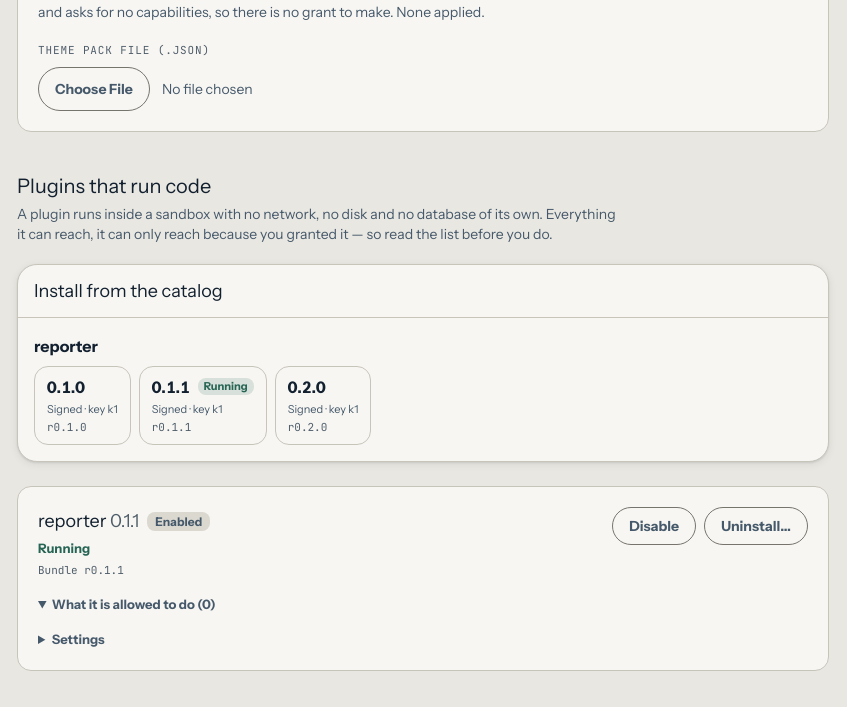
Scenario: installing by digest › the chooser's direction and toggle › names a newer version an upgrade
(page scrolled)
What coordinates should you click on to do the following:
click the button with aria-label "reporter 0.2.0,"
I would click on:
 (323, 405)
Its box is [275,366,371,444].
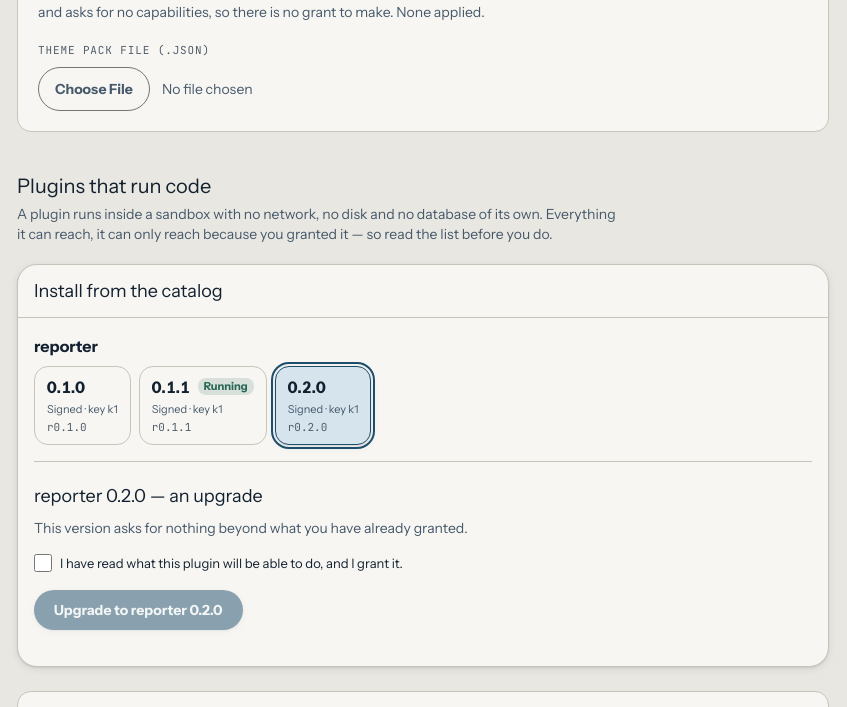
Result: the heading "reporter 0.2.0 — an upgrade" is shown at [34,484,263,506]
Result: the button "Upgrade to reporter 0.2.0" is shown at [34,590,243,630]
